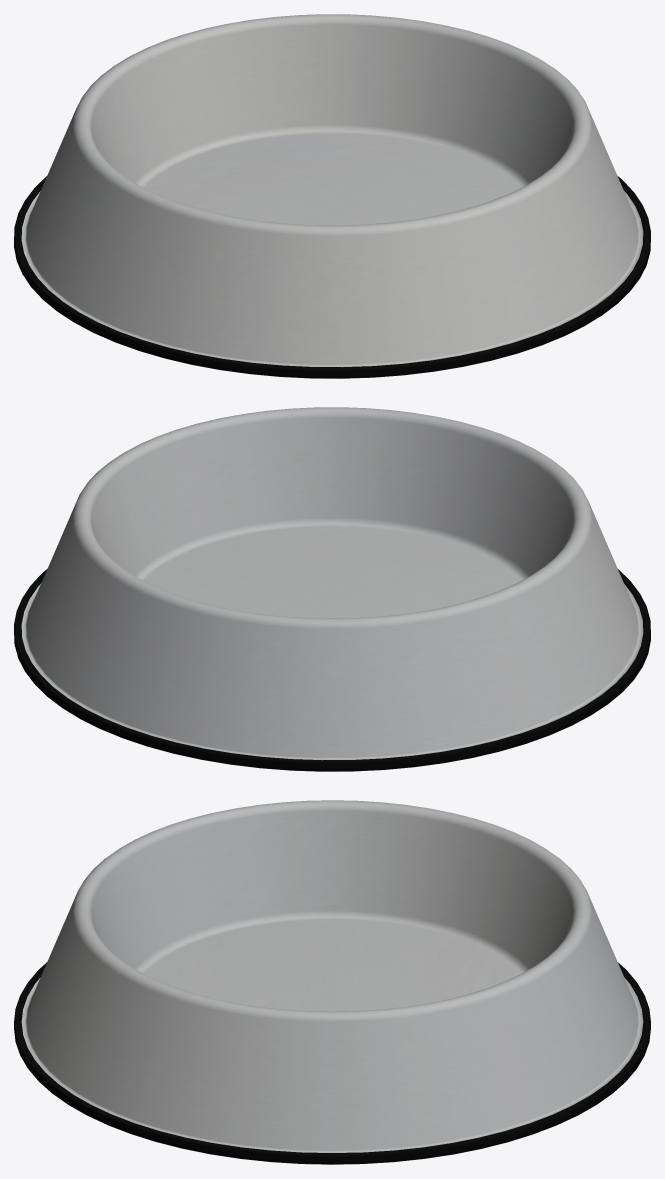
Rendered from dog_bowl.obj.
3 renders of one model, top to bottom at view 1: azimuth 30°, elevation 25°; view 2: azimuth 150°, elevation 25°; view 3: azimuth 270°, elevation 25°, orthographic.
Visible parts, largest first — view 1: DogBowl01_DogBowl01_0; view 2: DogBowl01_DogBowl01_0; view 3: DogBowl01_DogBowl01_0.
Part boxes in pixels (box(x1,y1,x2,y2)): DogBowl01_DogBowl01_0: box(14, 14, 650, 378); DogBowl01_DogBowl01_0: box(14, 407, 650, 771); DogBowl01_DogBowl01_0: box(14, 800, 650, 1164).
Bounding box in the file's own units: 2.34 × 0.5032 × 2.34.
Materials: 1 (1 with a texture image).
